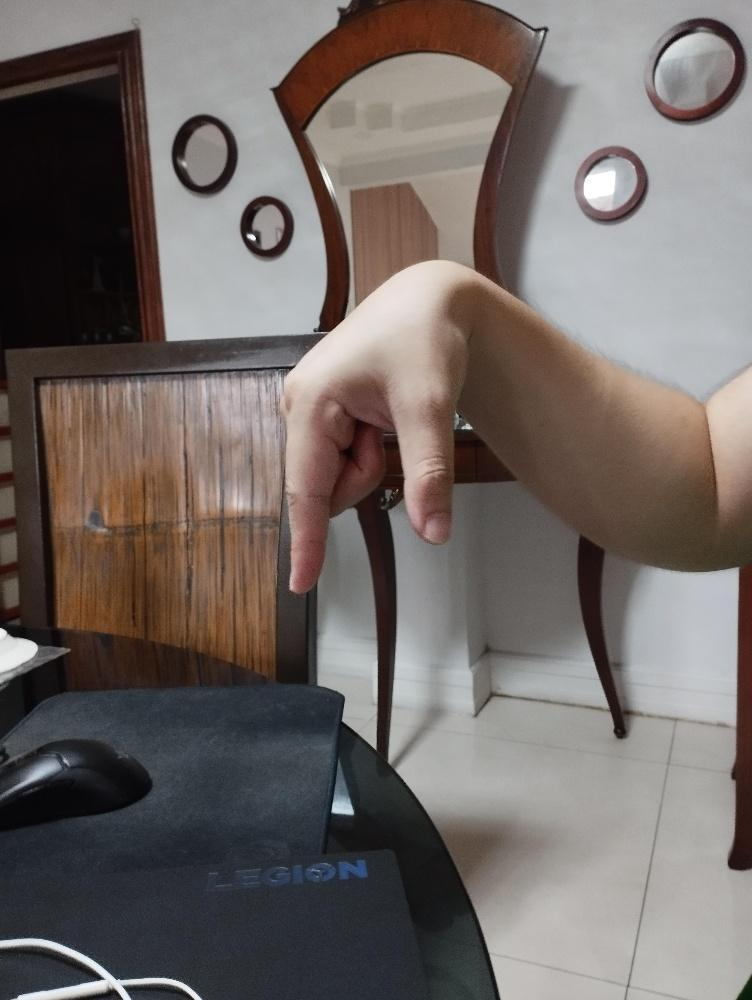q: (278, 256, 482, 596)
